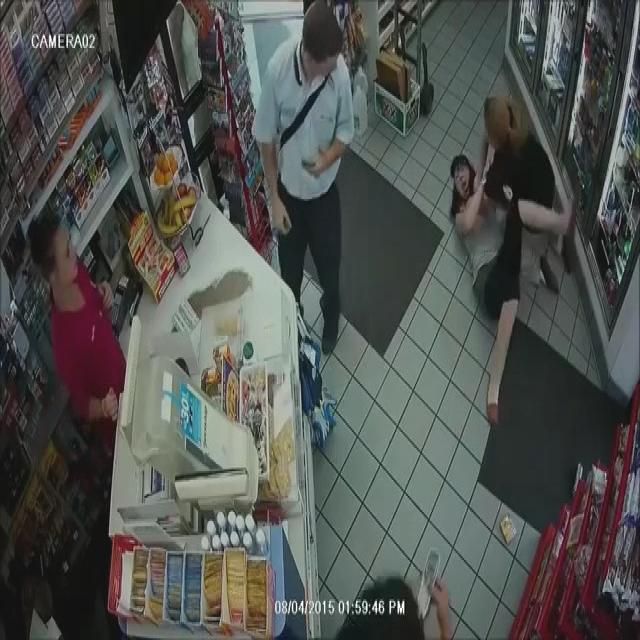fight: (449, 88, 573, 427)
